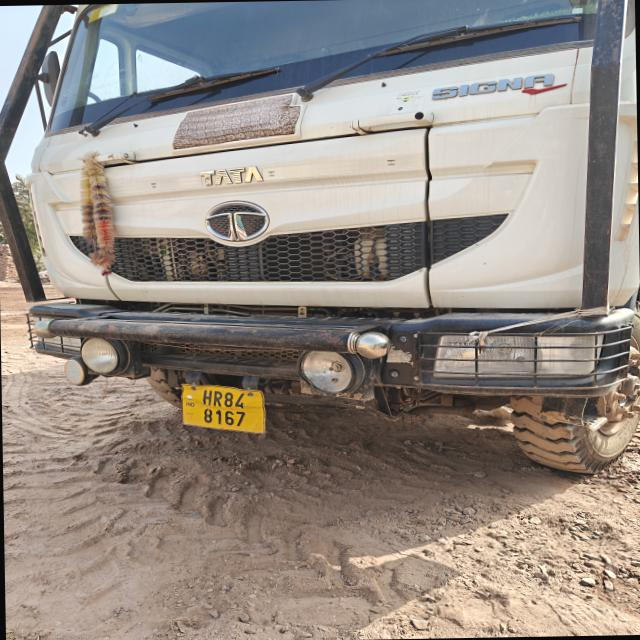license_plate: (183, 385, 265, 433)
